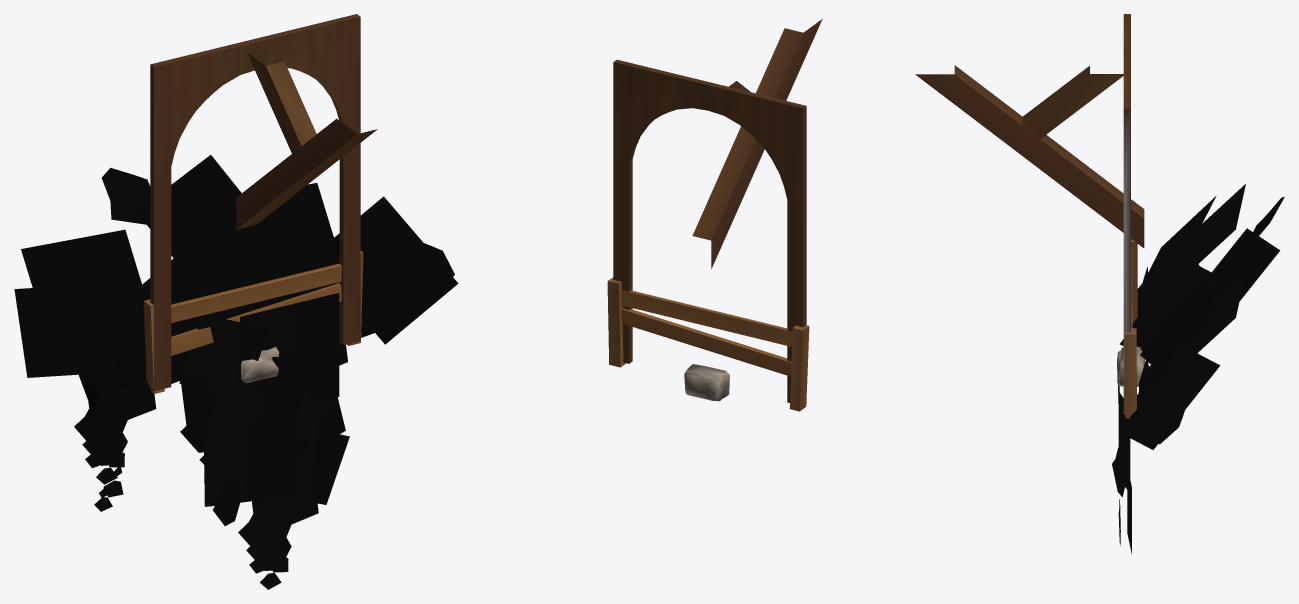
The model's file is qprops.glb.
The picture shows the model from 3 angles, left to right: view 1: azimuth 30°, elevation 25°; view 2: azimuth 150°, elevation 25°; view 3: azimuth 270°, elevation 25°; orthographic projection. The views are drawn at different scales.
Visible parts, largest first — view 1: Prop_Vine6, Prop_Vine2, Wall_Arch, Prop_Support, Prop_Vine4, Prop_WoodenFence_Single, Prop_Brick1; view 2: Wall_Arch, Prop_WoodenFence_Single, Prop_Support, Prop_Brick1, Prop_Brick3; view 3: Prop_Vine6, Prop_Support, Wall_Arch, Prop_WoodenFence_Single, Prop_Vine2.
Part boxes in pixels (x1,y1,x2,y2): Prop_Vine6: [14, 155, 458, 511]; Prop_Vine2: [203, 293, 349, 589]; Wall_Arch: [150, 14, 360, 391]; Prop_Support: [236, 53, 377, 229]; Prop_Vine4: [179, 315, 281, 478]; Prop_WoodenFence_Single: [143, 251, 363, 393]; Prop_Brick1: [242, 356, 278, 382]; Wall_Arch: [613, 59, 806, 405]; Prop_WoodenFence_Single: [607, 277, 809, 411]; Prop_Support: [692, 19, 822, 268]; Prop_Brick1: [685, 374, 729, 400]; Prop_Brick3: [684, 364, 729, 401]; Prop_Vine6: [1119, 184, 1284, 449]; Prop_Support: [915, 65, 1144, 248]; Wall_Arch: [1123, 14, 1130, 414]; Prop_WoodenFence_Single: [1124, 239, 1137, 418]; Prop_Vine2: [1112, 391, 1131, 554].
Bounding box in the file's own units: 4.14 × 5.12 × 3.29.
